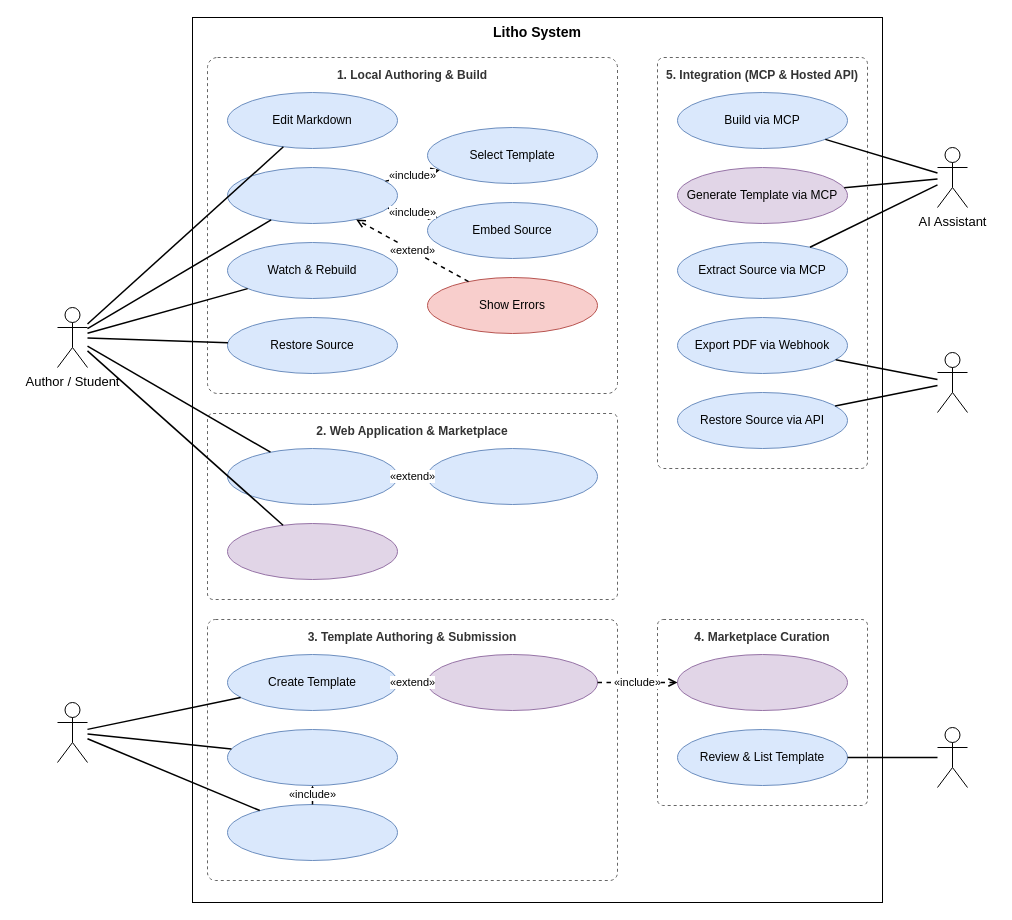
This 1012x920 diagram has some shape labels left out. The shapes that lost their labels are listed below. From the top down, each one's centre as x and y in pixels, then its label:
[312,195]: Build PDF
[952,382]: CMS Site / External Client
[312,476]: Browse Templates
[512,476]: Heart / Download
[312,551]: Spec to Markdown (AI)
[512,682]: Generate / Modify with AI
[762,682]: Review Security (AI)
[72,732]: Template Publisher
[312,757]: Validate Template
[952,757]: Marketplace Maintainer
[312,832]: Submit Template
